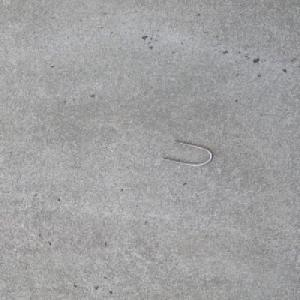ClampPart: (161, 139, 215, 166)
